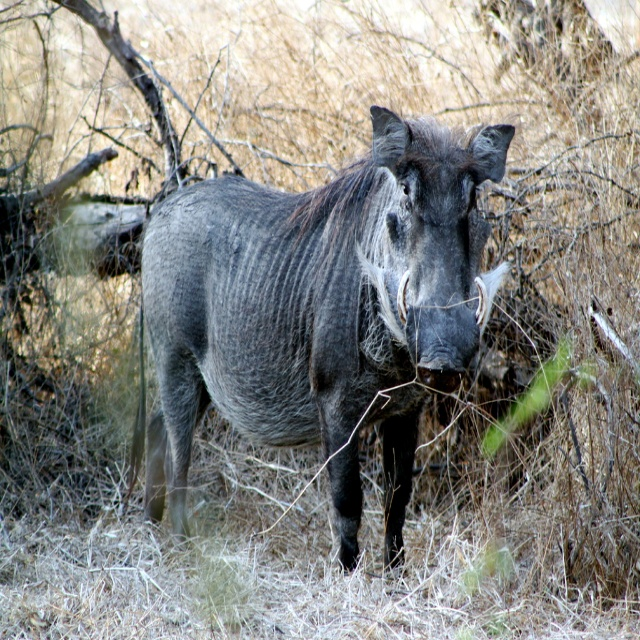Pig: (117, 104, 516, 577)
